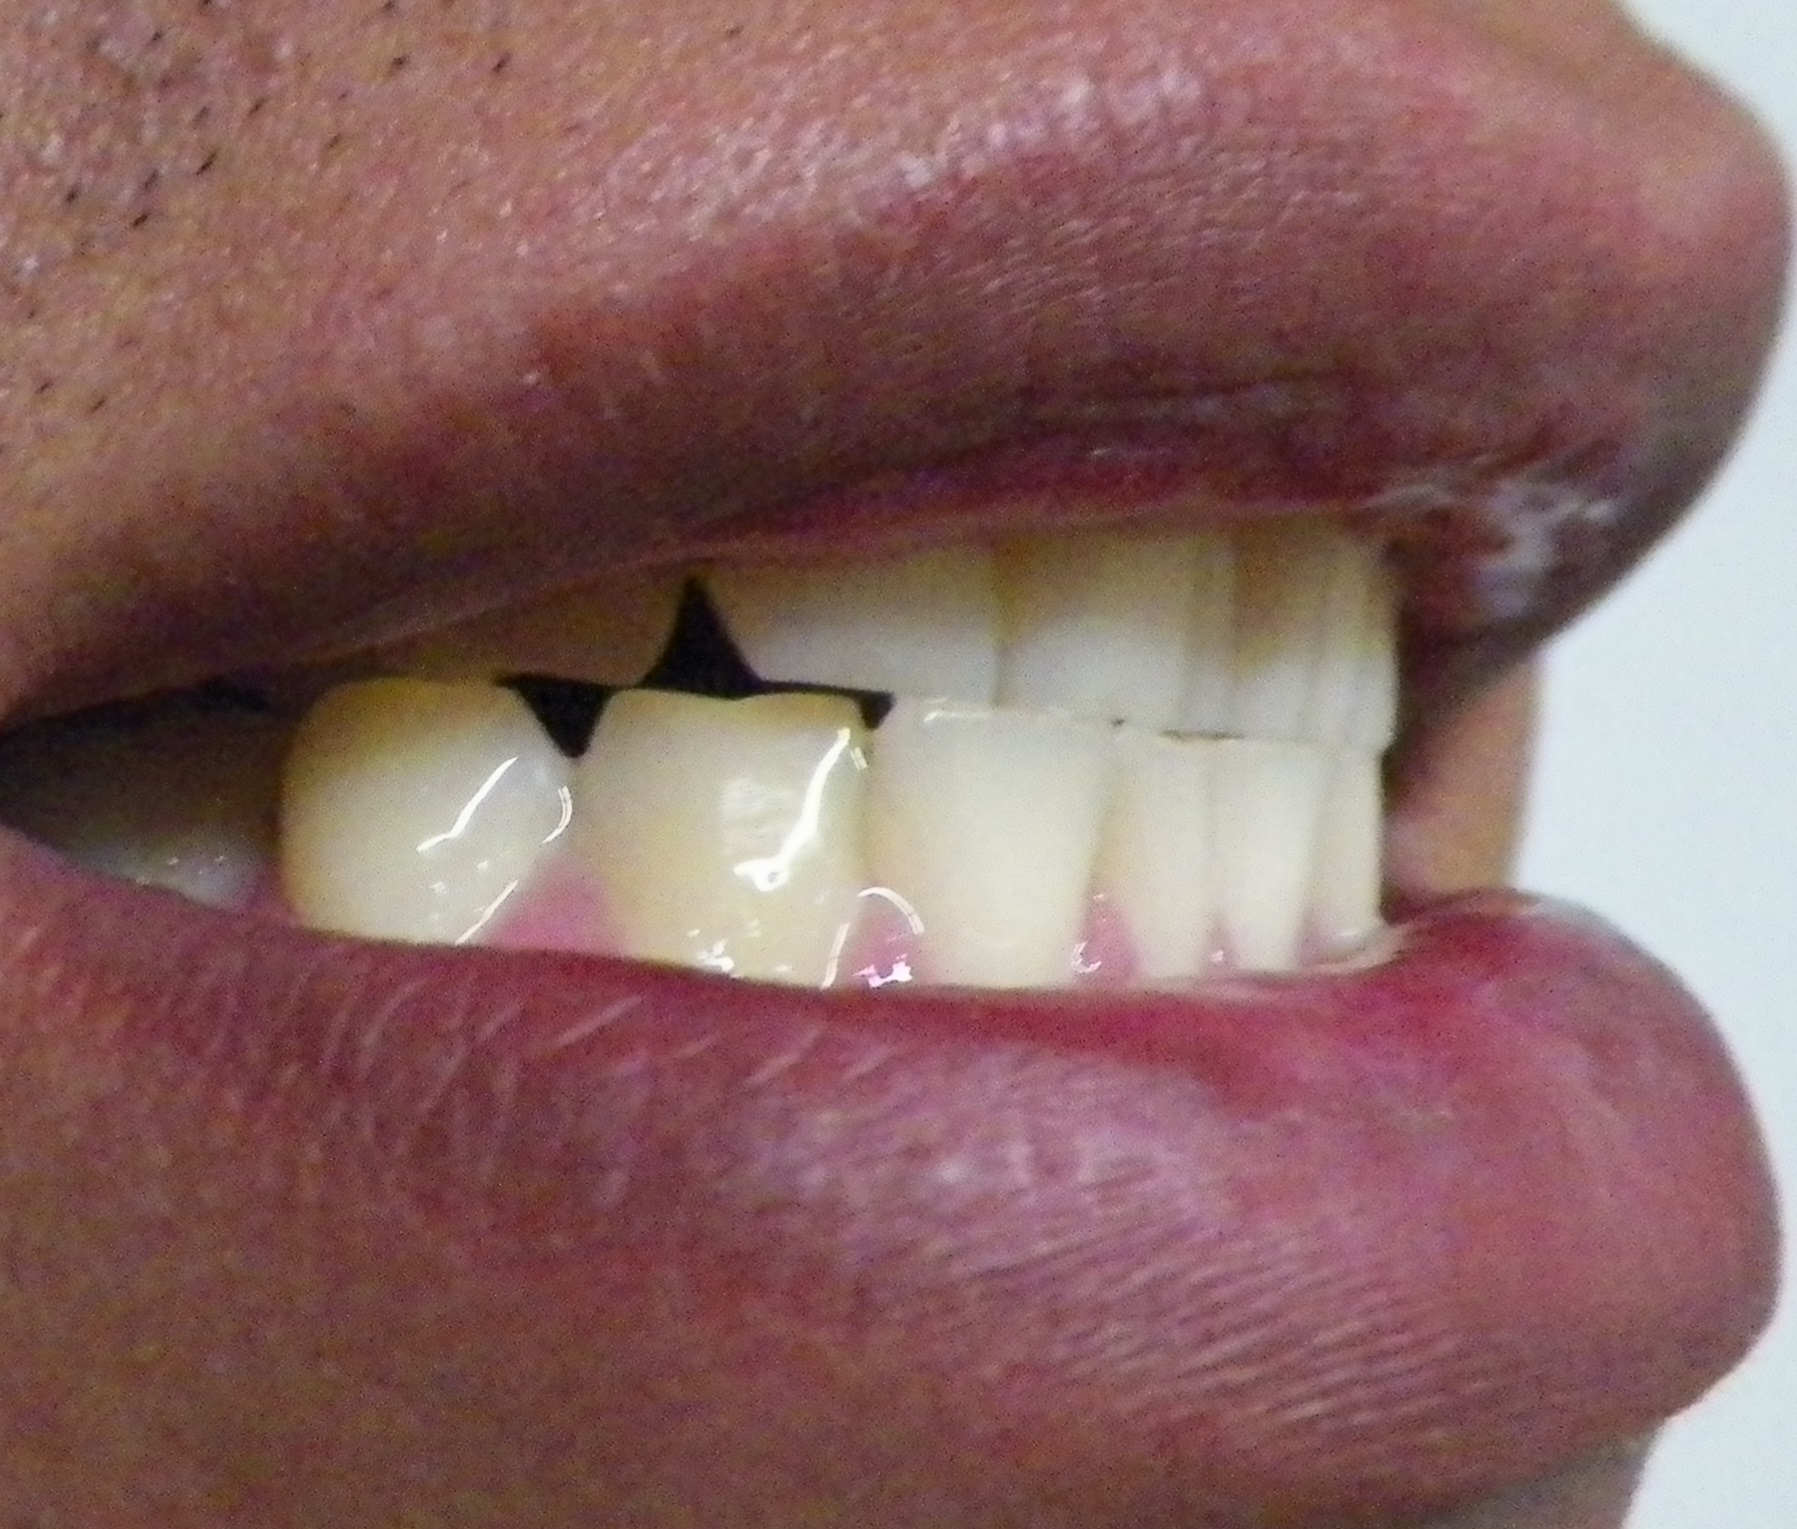boca: (94, 516, 1419, 992)
